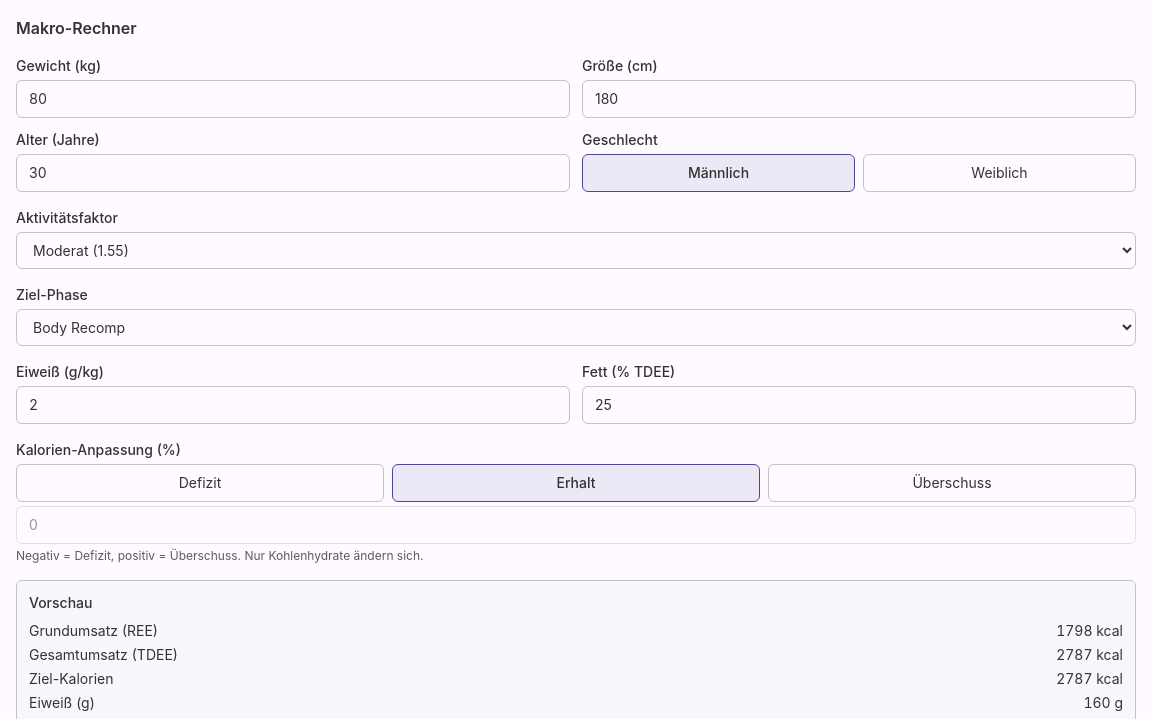
Scenario: BodyProfileForm › switching from Erhalt to Defizit clears the magnitude input so the user can type immediately
Expected: the heading "Makro-Rechner" is shown, [16,18,137,38]
Expected: the number field labelled "Kalorien-Anpassung (%)" holds "0", [16,506,1136,544]
Click the radio button labelled "Defizit" at (200, 483), box [16,464,384,502]
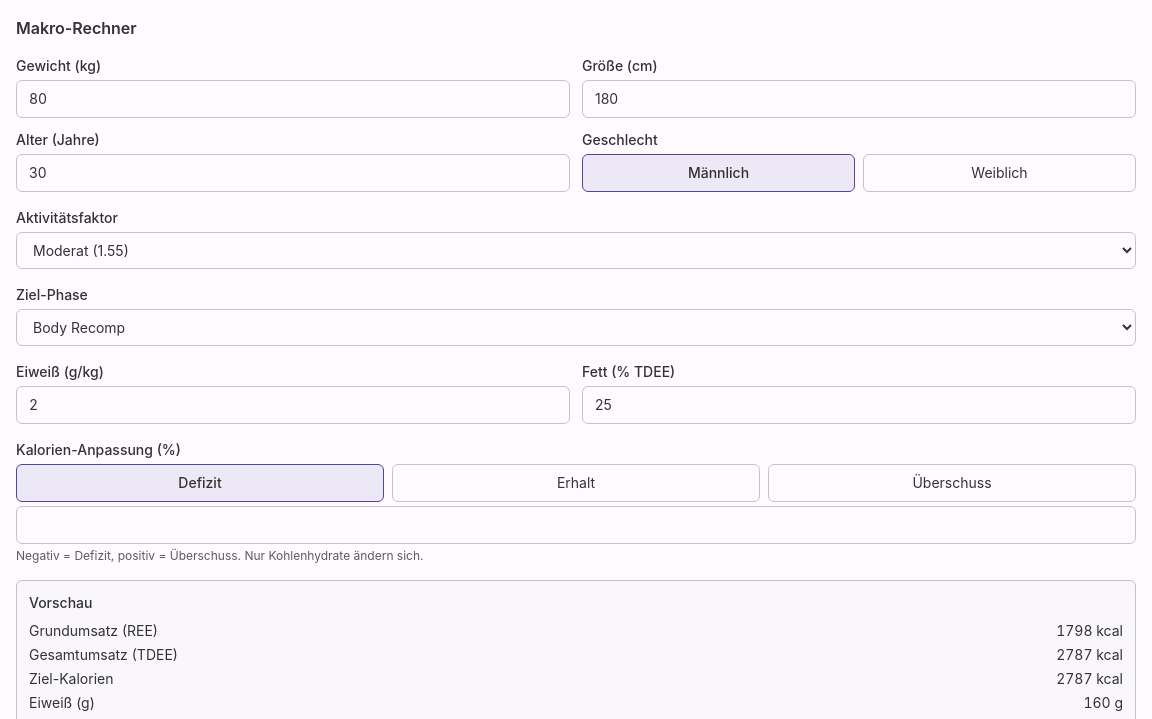
Expected: the number field labelled "Kalorien-Anpassung (%)" is not empty, [16,506,1136,544]
Click the radio button labelled "Erhalt" at (576, 483), box [392,464,760,502]
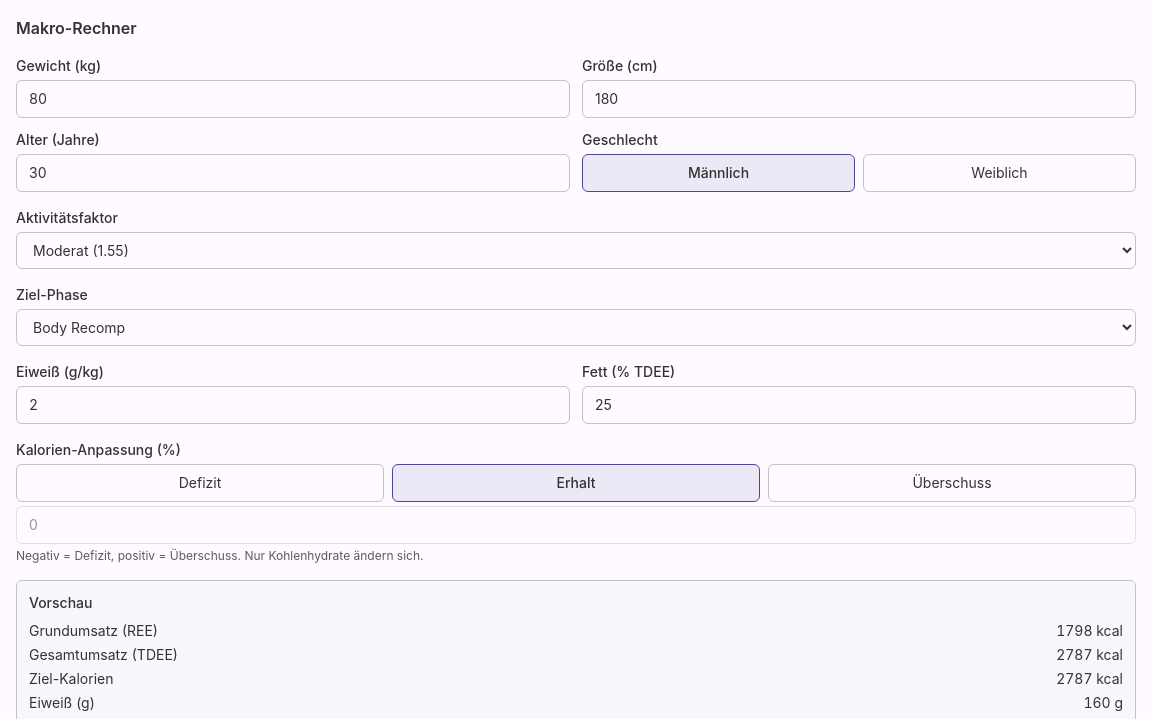
Expected: the number field labelled "Kalorien-Anpassung (%)" holds "0", [16,506,1136,544]
